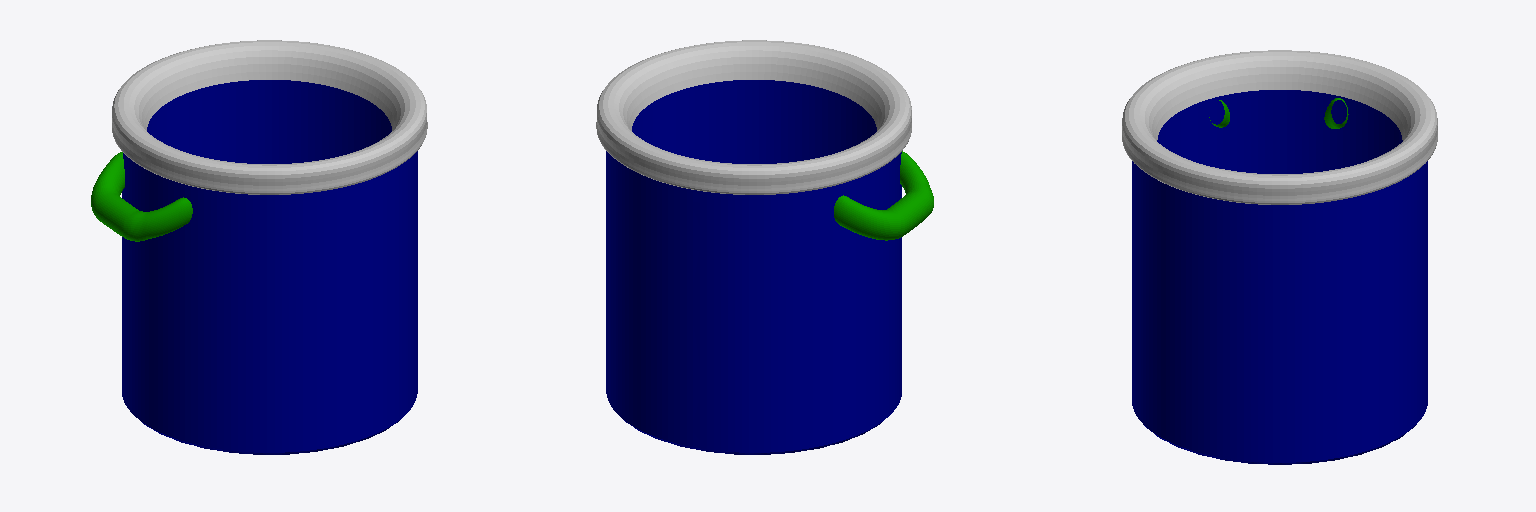
File: Bucket.obj
3 renders of one model, left to right at view 1: azimuth 30°, elevation 25°; view 2: azimuth 150°, elevation 25°; view 3: azimuth 270°, elevation 25°, orthographic.
Parts seen in each view (by area): view 1: Cylinder, Cylinder.001, Torus; view 2: Cylinder, Cylinder.001, Torus; view 3: Cylinder, Cylinder.001.
Boxes of the visible parts, <box> form: Cylinder: <box>122,80,417,454</box>; Cylinder.001: <box>112,40,427,194</box>; Torus: <box>91,152,192,241</box>; Cylinder: <box>606,80,901,454</box>; Cylinder.001: <box>596,40,911,194</box>; Torus: <box>834,151,933,240</box>; Cylinder: <box>1132,90,1427,464</box>; Cylinder.001: <box>1122,50,1437,204</box>.
Bounding box in the file's own units: 2.33 × 2.2 × 2.12.